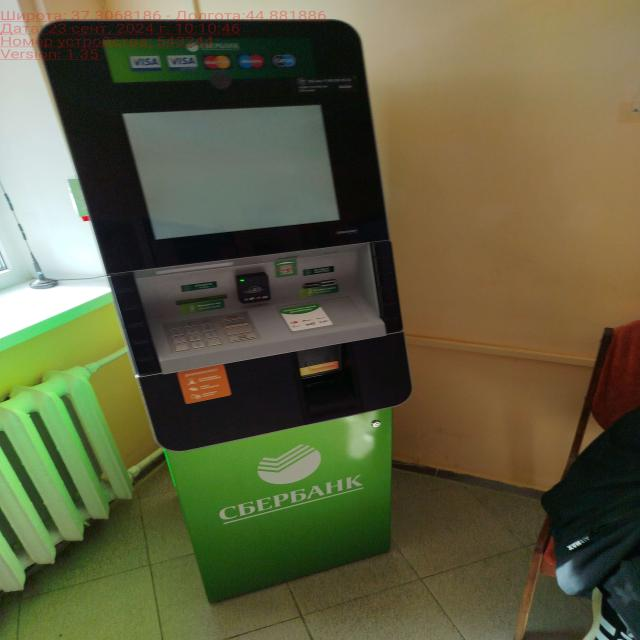bank: (38, 22, 413, 600)
